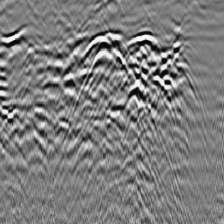cavities: (53, 24, 186, 144)
